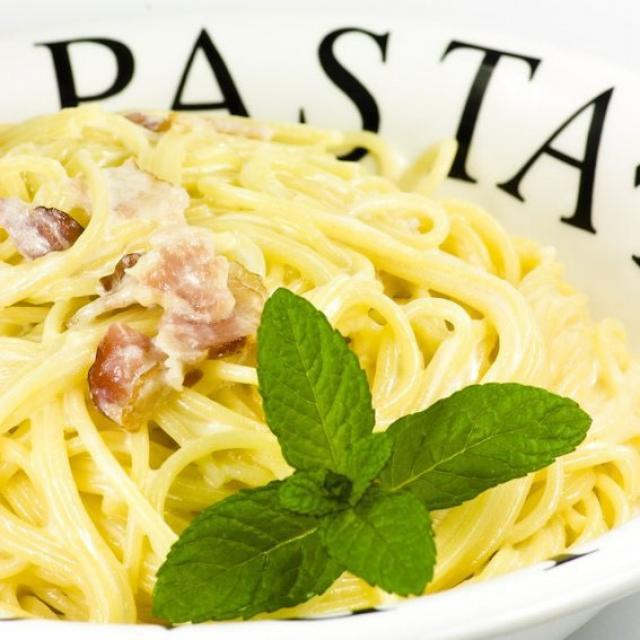Pasta with carbonara sauce: (1, 134, 632, 615)
